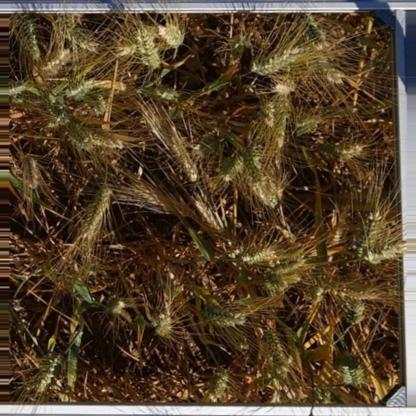whd: (75, 185, 112, 247), (122, 182, 174, 217), (257, 316, 289, 366), (166, 134, 198, 184), (53, 15, 97, 51), (353, 208, 384, 258), (249, 47, 306, 74), (73, 125, 125, 151), (12, 16, 40, 62), (296, 13, 327, 52), (191, 195, 222, 232), (200, 304, 249, 326), (8, 77, 64, 96), (135, 30, 161, 68), (317, 52, 346, 86), (368, 238, 408, 262), (317, 142, 364, 162), (42, 49, 74, 78), (35, 355, 60, 392), (216, 325, 251, 351), (328, 285, 381, 302), (137, 84, 184, 103), (260, 352, 294, 376), (18, 155, 40, 192), (240, 148, 262, 184), (268, 256, 307, 276), (329, 210, 349, 249), (220, 154, 242, 186), (250, 182, 277, 207), (208, 368, 229, 400), (275, 100, 289, 148), (342, 354, 364, 384), (64, 78, 97, 98), (160, 22, 186, 47), (47, 102, 70, 130), (150, 308, 172, 337), (259, 176, 284, 201), (241, 250, 280, 266), (194, 135, 221, 156), (295, 115, 325, 132), (224, 34, 239, 66), (102, 297, 127, 316), (263, 276, 284, 296), (92, 94, 110, 117), (349, 299, 366, 323), (80, 259, 100, 276), (310, 281, 326, 302), (72, 102, 93, 118), (306, 391, 334, 403), (275, 80, 294, 96), (263, 99, 274, 126), (176, 196, 190, 217), (274, 275, 305, 284), (120, 45, 137, 58), (242, 31, 254, 48), (273, 148, 282, 169), (274, 278, 288, 290)
